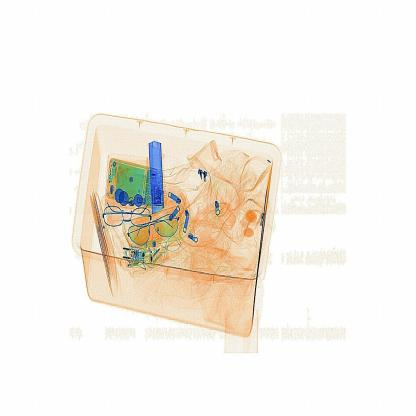pliers: (146, 138, 166, 220)
